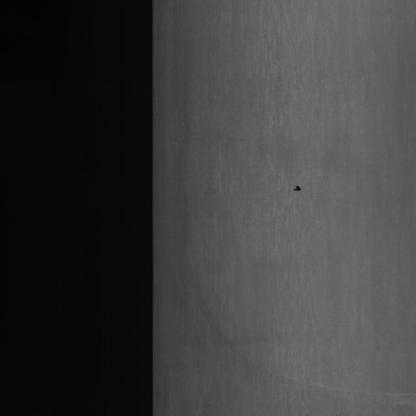inclusion: (292, 177, 307, 200)
